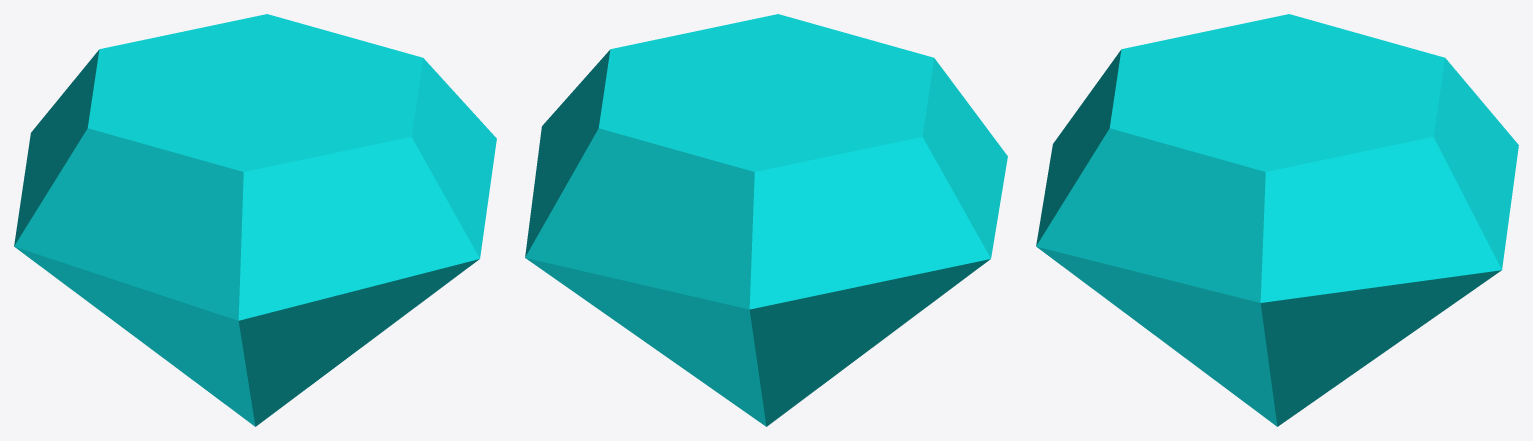
Rendered from Gem.fbx.
3 renders of one model, left to right at view 1: azimuth 30°, elevation 25°; view 2: azimuth 150°, elevation 25°; view 3: azimuth 270°, elevation 25°, orthographic.
Parts seen in each view (by area): view 1: Crystal5; view 2: Crystal5; view 3: Crystal5.
Boxes of the visible parts, bbox=[...] form: Crystal5: bbox=[14, 14, 496, 426]; Crystal5: bbox=[525, 14, 1007, 426]; Crystal5: bbox=[1036, 14, 1518, 426].
Bounding box in the file's own units: 0.6292 × 0.4308 × 0.5646.
